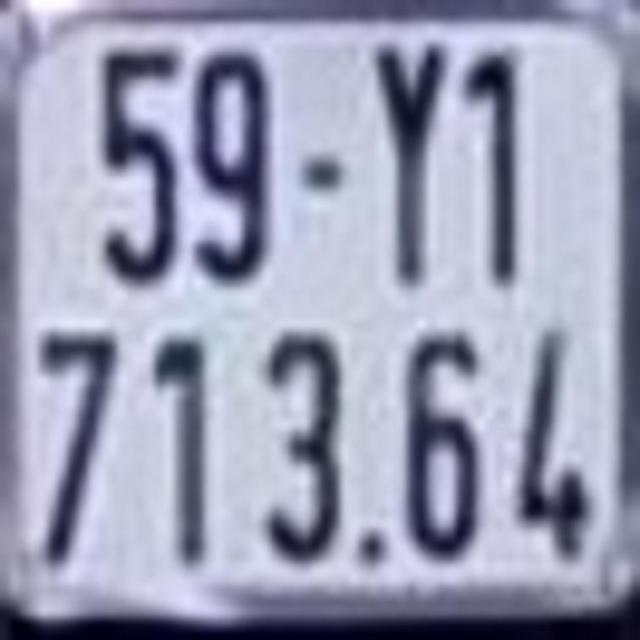1: (147, 332, 212, 564), (468, 48, 527, 282)
3: (260, 324, 350, 564)
4: (516, 324, 590, 562)
5: (105, 43, 177, 279)
6: (406, 321, 484, 562)
7: (41, 330, 119, 556)
9: (196, 54, 277, 290)
Y: (374, 43, 446, 303)
